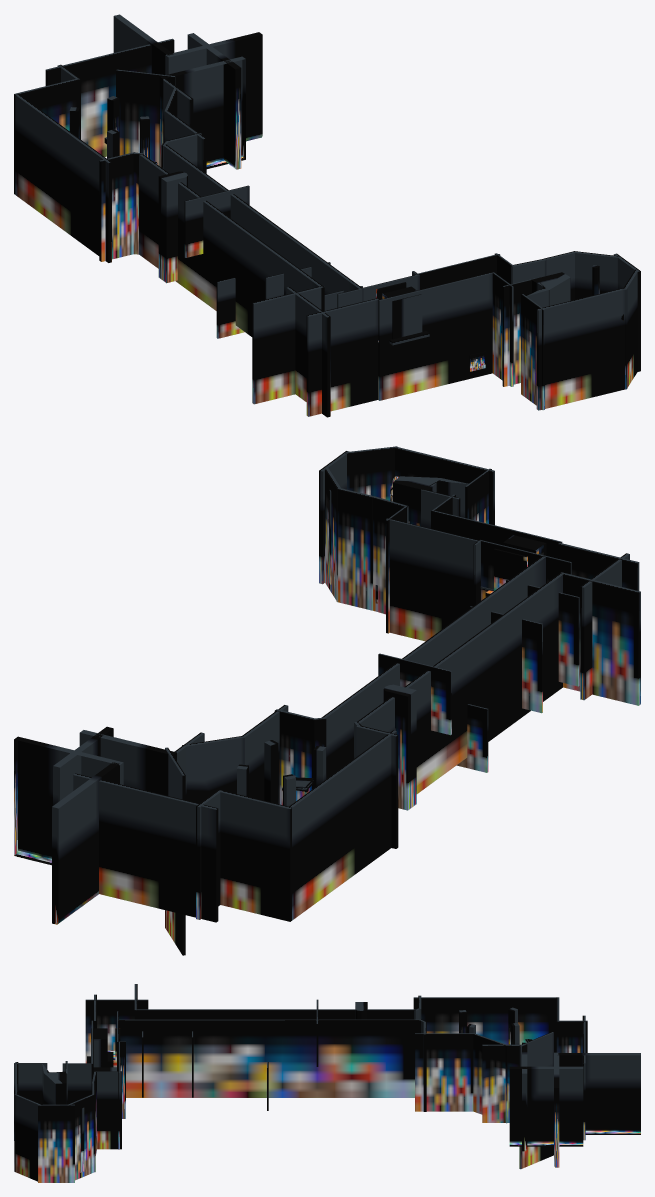
Rendered from Stage3Collider (2).fbx.
3 views of the same model, one above another, from view 1: azimuth 30°, elevation 25°; view 2: azimuth 150°, elevation 25°; view 3: azimuth 270°, elevation 25° (orthographic). The views are drawn at different scales.
Parts seen in each view (by area): view 1: Collider.082, Collider.031, Collider.092, Collider.036, Collider.078, Collider.079, Collider.033, Collider.093, Collider.087, Collider.085, Collider.089, Collider.075 (+22 smaller); view 2: Collider.082, Collider.093, Collider.092, Collider.026, Collider.090, Collider.033, Collider.079, Collider.088, Collider.089, Collider.037, Collider.084, Collider.087 (+25 smaller); view 3: Collider.033, Collider.086, Collider.092, Collider.088, Collider.024, Collider.082, Collider.040, Collider.083, Collider.039, Collider.029, Collider.080, Collider.041 (+13 smaller).
Part boxes in pixels (x1,y1,x2,y2): Collider.082: (139,154,324,336); Collider.031: (378,272,493,400); Collider.092: (15,94,111,262); Collider.036: (536,288,627,410); Collider.078: (306,298,378,416); Collider.079: (252,286,322,404); Collider.033: (163,144,361,294); Collider.093: (45,38,174,156); Collider.087: (159,56,245,168); Collider.085: (116,69,175,165); Collider.089: (165,32,262,141); Collider.075: (99,152,135,261); Collider.082: (357,573,564,793); Collider.093: (73,773,218,922); Collider.092: (289,730,396,920); Collider.026: (386,518,479,641); Collider.090: (220,790,291,921); Collider.033: (321,556,545,778); Collider.079: (560,572,640,705); Collider.088: (52,762,119,924); Collider.089: (14,736,123,865); Collider.037: (336,487,374,610); Collider.084: (182,736,244,803); Collider.087: (79,730,176,795); Collider.033: (118,1019,420,1097); Collider.086: (509,1066,583,1146); Collider.092: (413,997,556,1052); Collider.088: (558,1053,640,1134); Collider.024: (415,1033,474,1111); Collider.082: (134,1009,416,1019); Collider.040: (38,1104,74,1182); Collider.083: (482,1044,520,1122); Collider.039: (14,1094,42,1181); Collider.029: (94,1071,121,1149); Collider.080: (85,999,148,1063); Collider.041: (68,1094,95,1180).
Bounding box in the file's own units: 46218 × 21875 × 100459.
